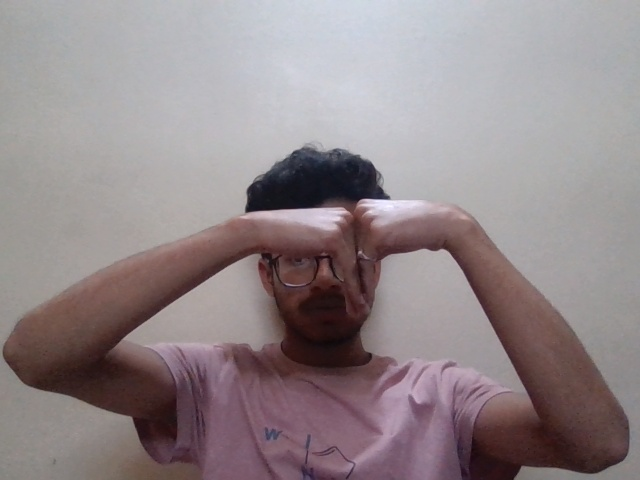yesterday: (246, 196, 457, 333)
